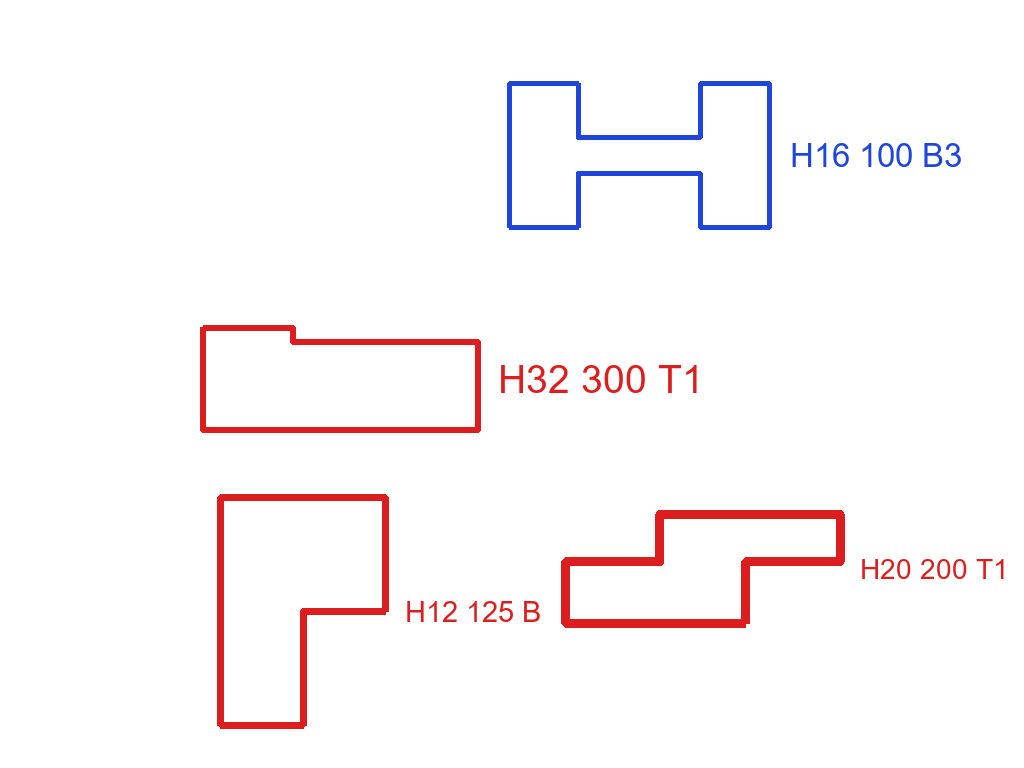shape: (215, 492, 391, 731), (505, 79, 774, 232), (559, 508, 847, 630), (199, 323, 483, 435)
text: (496, 363, 706, 395), (788, 141, 964, 169), (858, 557, 1011, 581), (403, 599, 543, 624)
